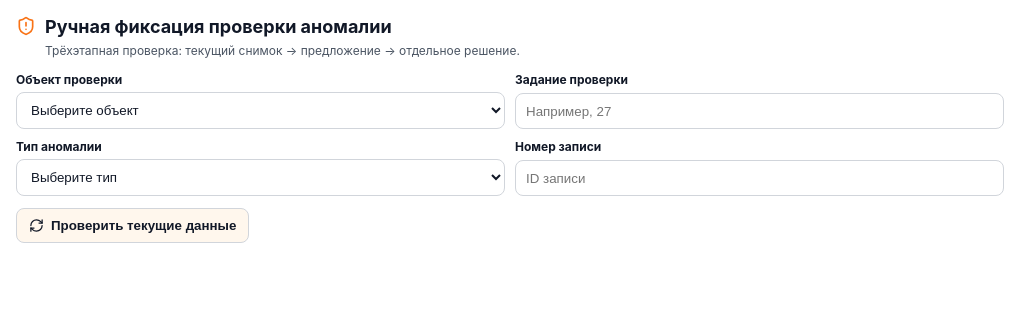
Test: HumanApprovedActionReviewPanel › fails closed on malformed API data without rendering private response fields
The image size is (1021, 314).
Step 1. Select "Школа № 8" in the dropdown labelled "Объект проверки" → (260, 110), box [16, 92, 505, 129]
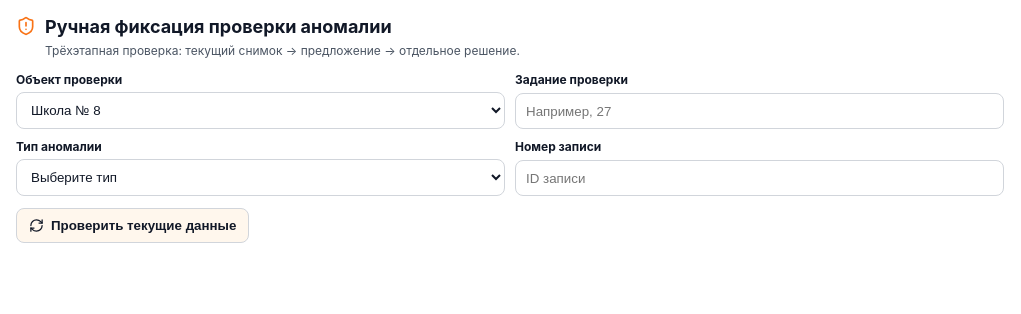
Step 2. Type "27" into the field labelled "Задание проверки" → (760, 111), box [515, 93, 1004, 129]
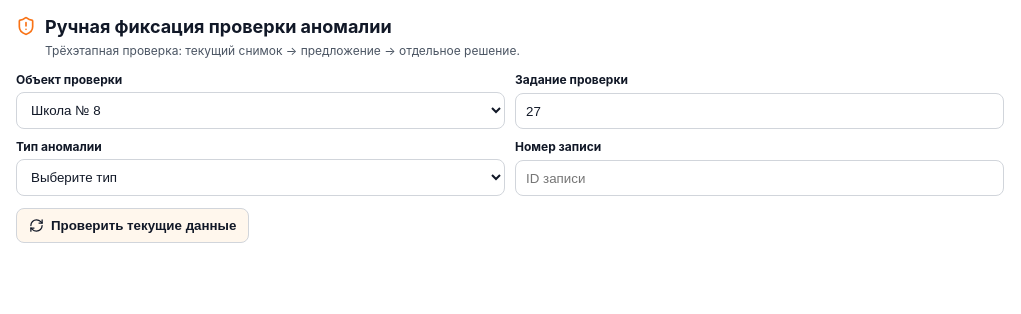
Step 3. Select "Накладная относится к другому объекту" in the dropdown labelled "Тип аномалии" → (260, 178), box [16, 159, 505, 196]
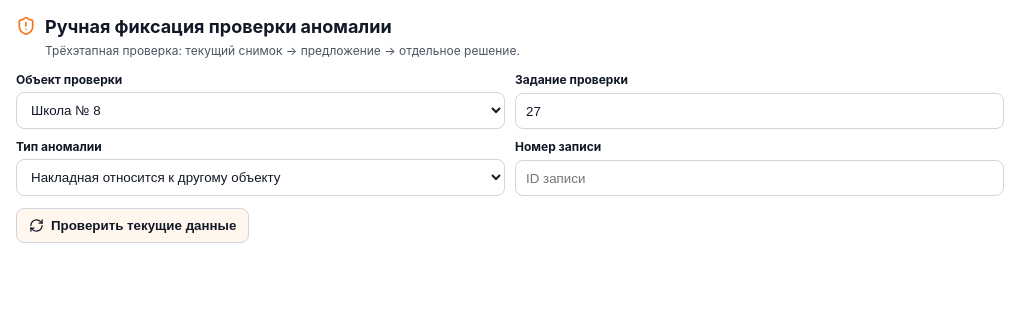
Step 4. Type "91" into the field labelled "Номер записи" → (760, 178), box [515, 160, 1004, 196]
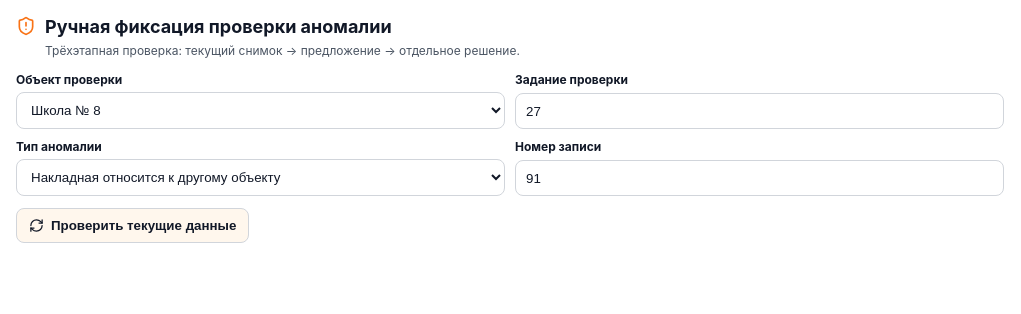
Step 5. Click the button "Проверить текущие данные" → (133, 226), box [16, 208, 249, 243]
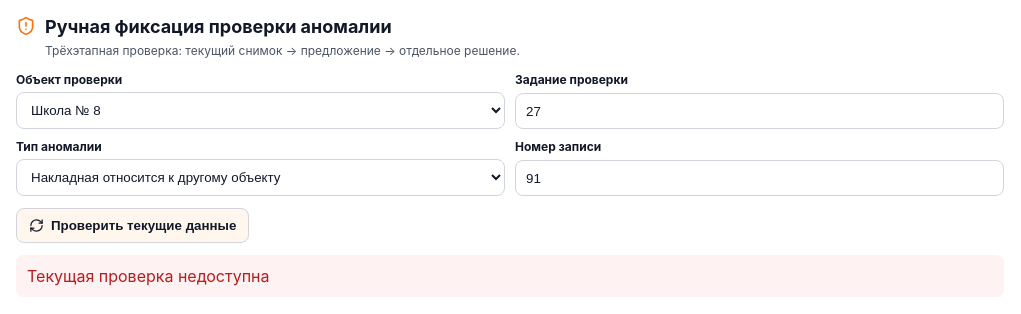
Check: the message reads "Текущая проверка недоступна", box [27, 266, 270, 286]
